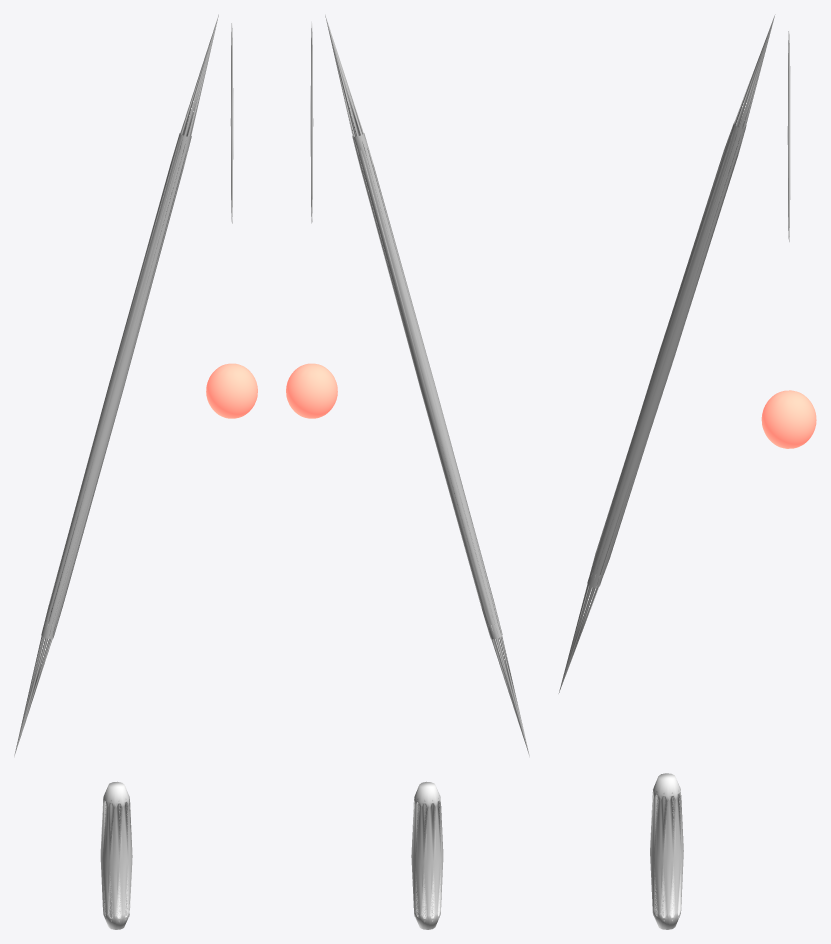
File: farm_fish_rod_v3.glb
The picture shows the model from 3 angles, left to right: view 1: azimuth 30°, elevation 25°; view 2: azimuth 150°, elevation 25°; view 3: azimuth 330°, elevation 25°; orthographic projection. The views are drawn at different scales.
Parts seen in each view (by area): view 1: rod, handle, bobber; view 2: rod, handle, bobber; view 3: rod, handle, bobber, line.
Boxes of the visible parts, x1,y1,x2,y2 form: rod: (14,14,218,756); handle: (100,781,132,929); bobber: (206,363,257,418); rod: (325,14,529,756); handle: (411,781,443,929); bobber: (286,363,337,418); rod: (558,14,775,693); handle: (650,773,683,929); bobber: (761,390,816,448); line: (787,29,790,241).
Bounding box in the file's own units: 0.3748 × 1.32 × 0.0701.
